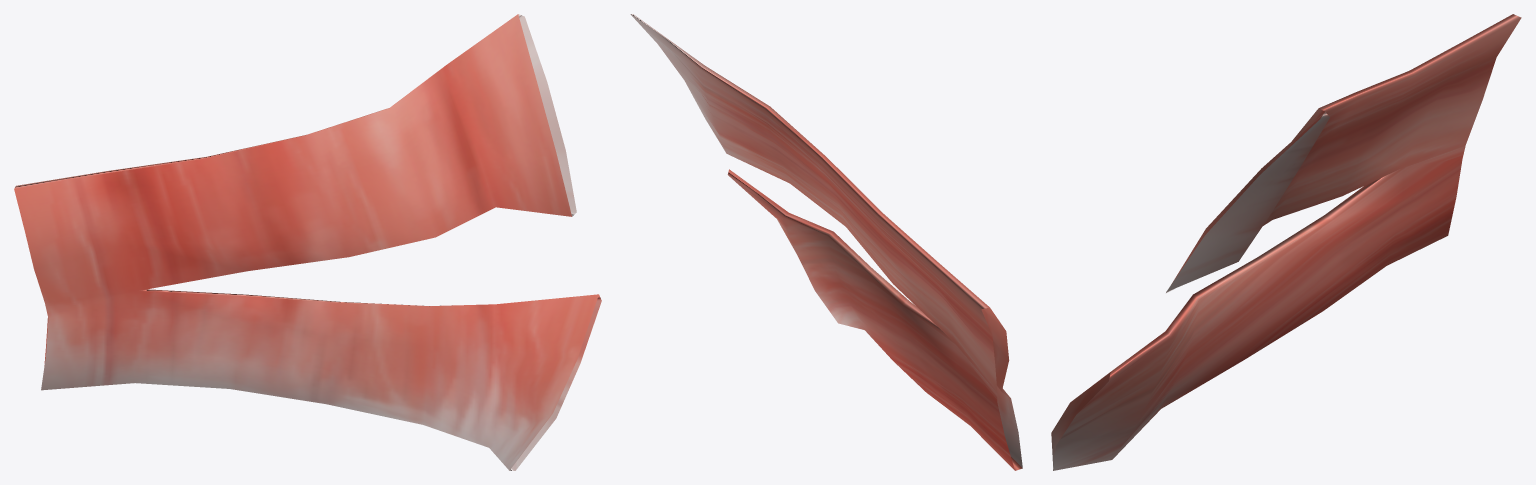
Rendered from Pterygoid_Medial_Muscle_Right.obj.
3 views of the same model, side by side, from view 1: azimuth 30°, elevation 25°; view 2: azimuth 150°, elevation 25°; view 3: azimuth 270°, elevation 25° (orthographic). The views are drawn at different scales.
Parts seen in each view (by area): view 1: Posterior_Auricular_Muscle_Left:Posterior_Auricular_Muscle_Left1; view 2: Posterior_Auricular_Muscle_Left:Posterior_Auricular_Muscle_Left1; view 3: Posterior_Auricular_Muscle_Left:Posterior_Auricular_Muscle_Left1.
Part boxes in pixels (x1,y1,x2,y2): Posterior_Auricular_Muscle_Left:Posterior_Auricular_Muscle_Left1: (14,14,601,470); Posterior_Auricular_Muscle_Left:Posterior_Auricular_Muscle_Left1: (630,14,1022,470); Posterior_Auricular_Muscle_Left:Posterior_Auricular_Muscle_Left1: (1051,14,1521,470).
Size of the model in its own units: 0.28 by 0.2142 by 0.2145.
